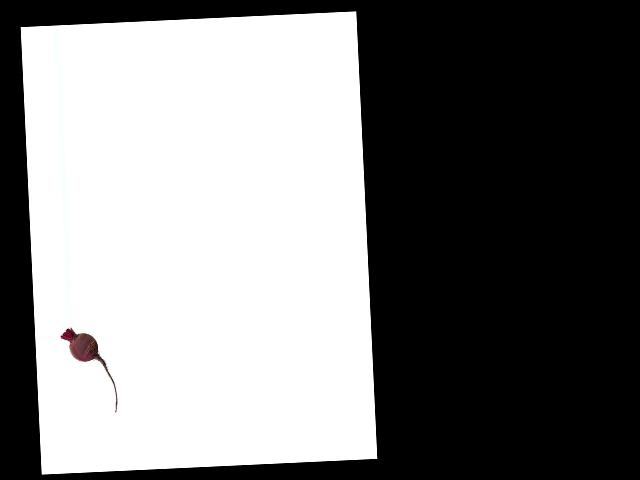beet: (60, 326, 118, 415)
